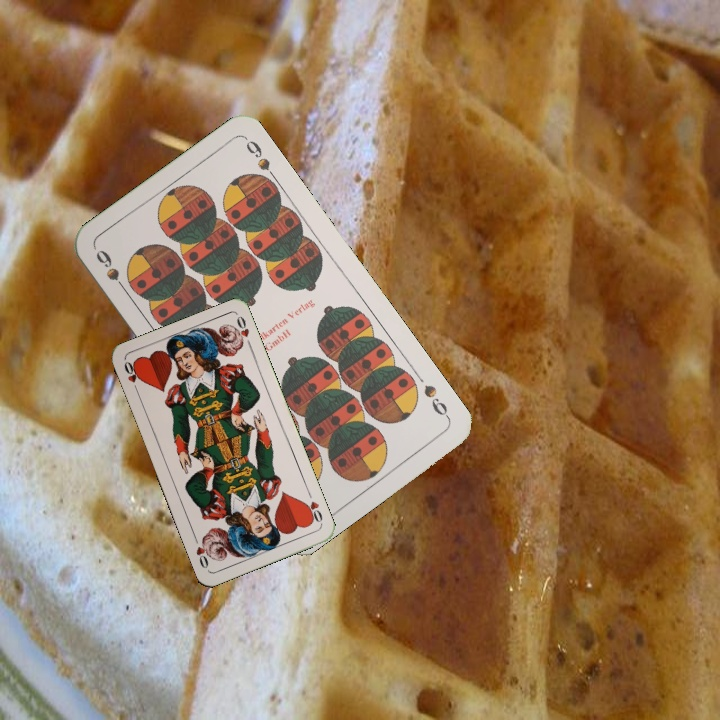HO: (300, 487, 325, 526), (120, 357, 142, 396)
S9: (91, 245, 131, 297), (419, 380, 453, 422)
